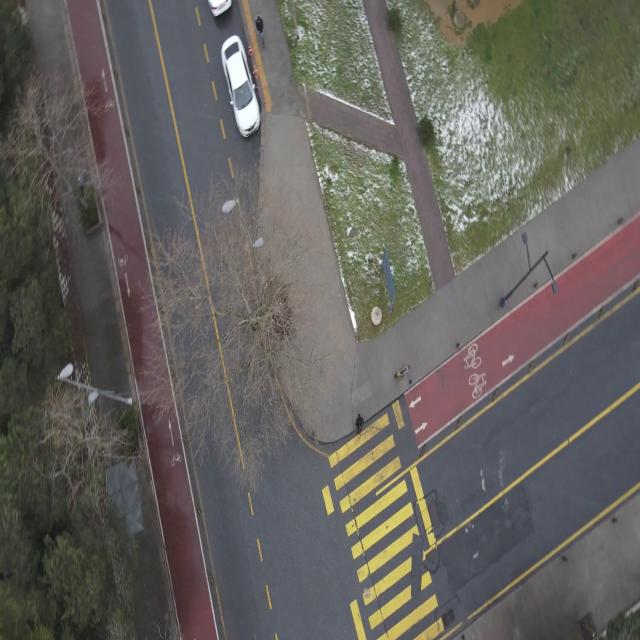p3rson: (254, 12, 264, 47), (356, 412, 364, 431)
